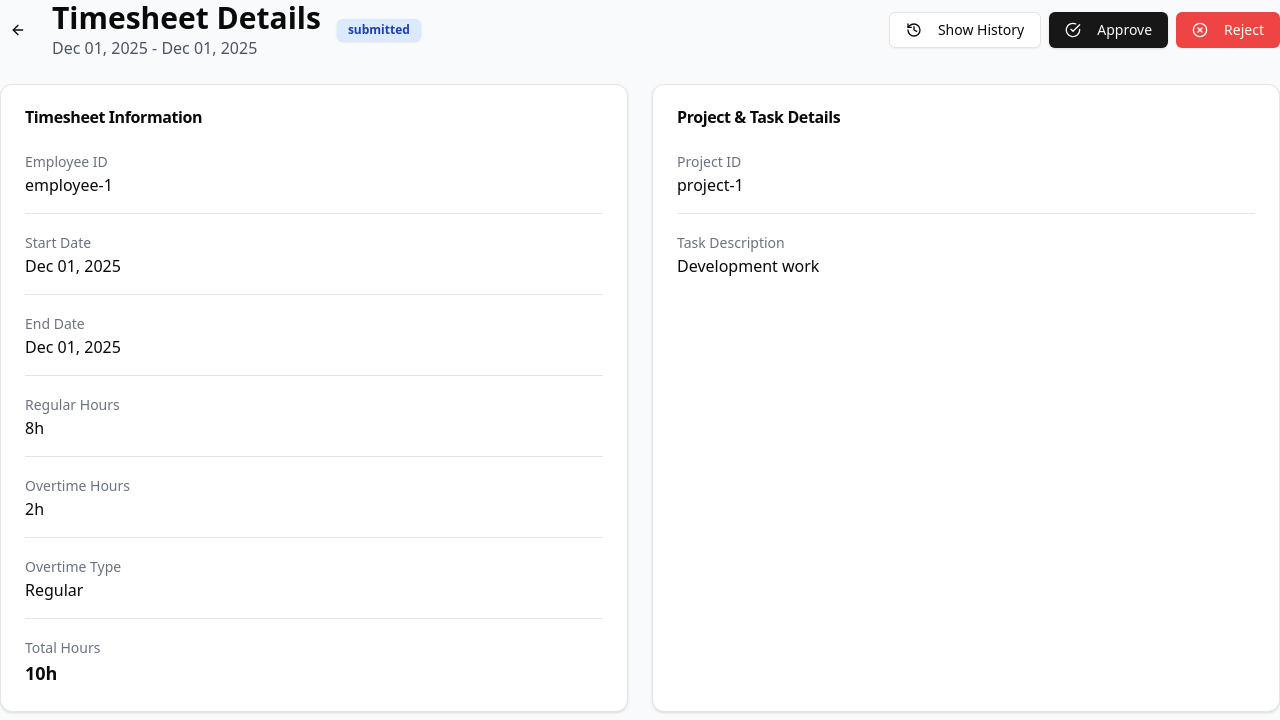
Scenario: TimesheetDetail › should open reject dialog on reject click
The image size is (1280, 720).
Click the button "Reject": x=1228, y=30 [1176,12,1279,48]
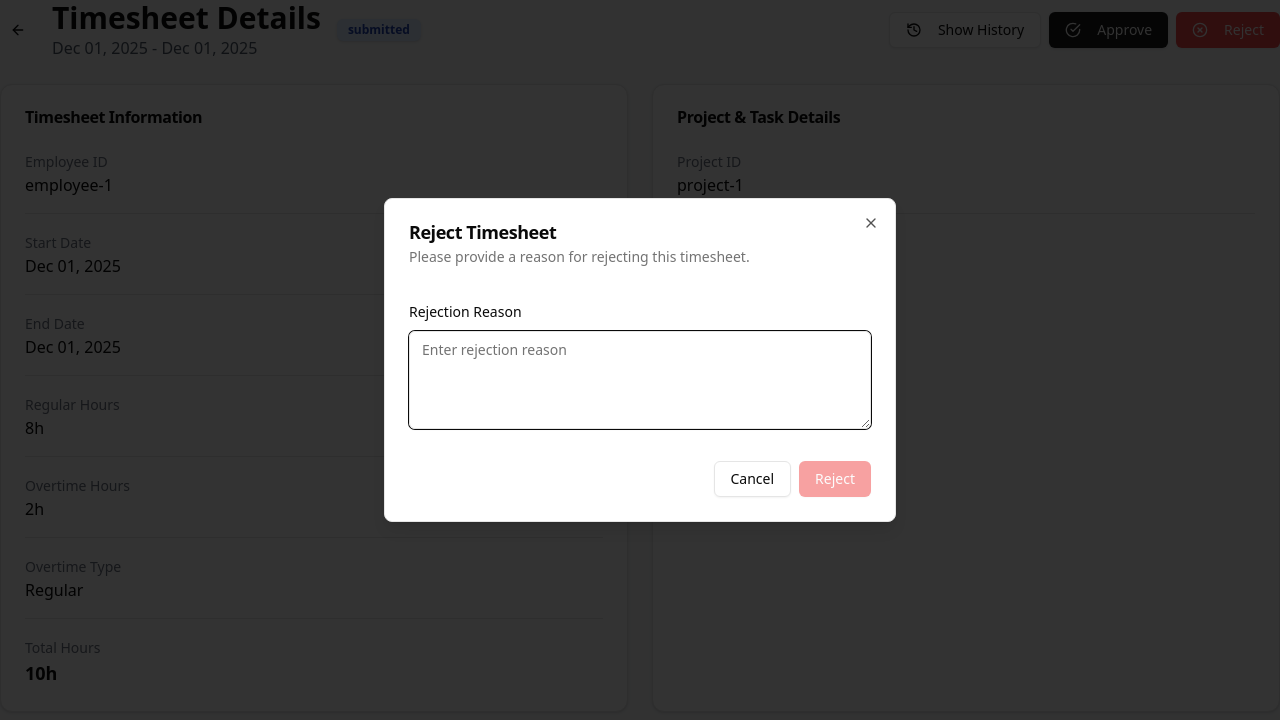
expect the heading "Reject Timesheet" is shown: met, box [409,220,556,244]
expect the text box labelled "Rejection Reason" is shown: met, box [409,331,871,429]
